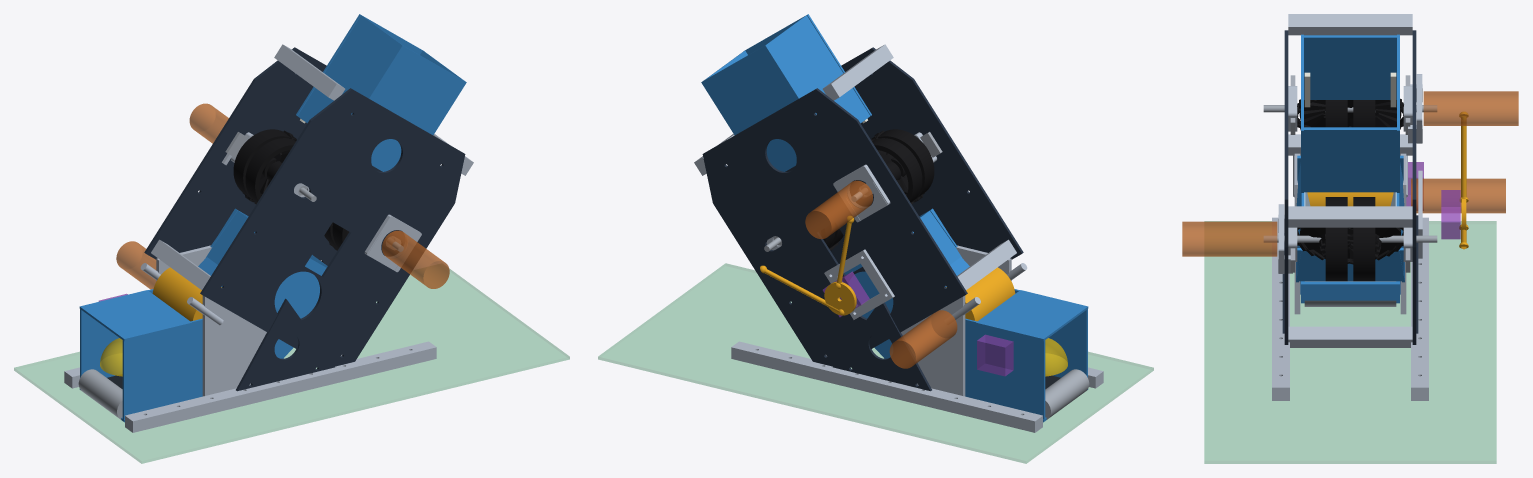
Rendered from biobuzz_launcher_horizontal_feed_pollen.glb.
3 views of the same model, side by side, from view 1: azimuth 30°, elevation 25°; view 2: azimuth 150°, elevation 25°; view 3: azimuth 270°, elevation 25° (orthographic). The views are drawn at different scales.
Visible parts, largest first — view 1: main_side_plate_-1, 00_chassis_xy_reference, main_side_plate_+1, horizontal_feed_side_-1, base_rail_-1, output_sidewall_-1, kick_support_cheek_-1, output_roof, angle_gusset_-1, horizontal_feed_roof, horizontal_feed_side_+1, motor_envelope_lower (+13 smaller); view 2: main_side_plate_+1, 00_chassis_xy_reference, main_side_plate_-1, horizontal_feed_side_+1, base_rail_+1, output_sidewall_+1, output_roof, kick_support_cheek_+1, angle_gusset_+1, horizontal_feed_roof, horizontal_feed_side_-1, feed_motor_envelope (+15 smaller); view 3: 00_chassis_xy_reference, output_floor, output_roof, motor_envelope_lower, motor_envelope_upper, feed_motor_envelope, crossmember_128_-118, crossmember_128_118, crossmember_-162_-118, base_rail_+1, gecko_lower_1, gecko_lower_2 (+26 smaller).
Part boxes in pixels (x1,y1,x2,y2): main_side_plate_-1: [200, 88, 465, 366]; 00_chassis_xy_reference: [14, 269, 569, 463]; main_side_plate_+1: [144, 47, 382, 265]; horizontal_feed_side_-1: [122, 318, 202, 419]; base_rail_-1: [125, 341, 436, 432]; output_sidewall_-1: [368, 45, 466, 171]; kick_support_cheek_-1: [202, 295, 266, 396]; output_roof: [298, 15, 403, 123]; angle_gusset_-1: [236, 298, 334, 391]; horizontal_feed_roof: [79, 290, 191, 341]; horizontal_feed_side_+1: [80, 289, 153, 389]; motor_envelope_lower: [382, 230, 449, 288]; main_side_plate_+1: [702, 88, 967, 366]; 00_chassis_xy_reference: [598, 263, 1153, 463]; main_side_plate_-1: [785, 47, 1023, 263]; horizontal_feed_side_+1: [965, 318, 1045, 421]; base_rail_+1: [731, 341, 1042, 432]; output_sidewall_+1: [701, 45, 799, 171]; output_roof: [763, 15, 869, 123]; kick_support_cheek_+1: [901, 295, 965, 396]; angle_gusset_+1: [833, 302, 931, 391]; horizontal_feed_roof: [976, 290, 1088, 341]; horizontal_feed_side_-1: [1014, 289, 1087, 377]; feed_motor_envelope: [889, 310, 957, 368]; 00_chassis_xy_reference: [1204, 221, 1496, 463]; output_floor: [1302, 127, 1399, 192]; output_roof: [1301, 35, 1399, 99]; motor_envelope_lower: [1182, 221, 1277, 256]; motor_envelope_upper: [1423, 91, 1518, 125]; feed_motor_envelope: [1411, 178, 1505, 213]; crossmember_128_-118: [1288, 206, 1412, 227]; crossmember_128_118: [1288, 14, 1412, 35]; crossmember_-162_-118: [1288, 326, 1412, 347]; base_rail_+1: [1411, 217, 1428, 400]; gecko_lower_1: [1297, 197, 1381, 281]; gecko_lower_2: [1319, 197, 1403, 281].
Bounding box in the file's own units: 620 × 434 × 368.
